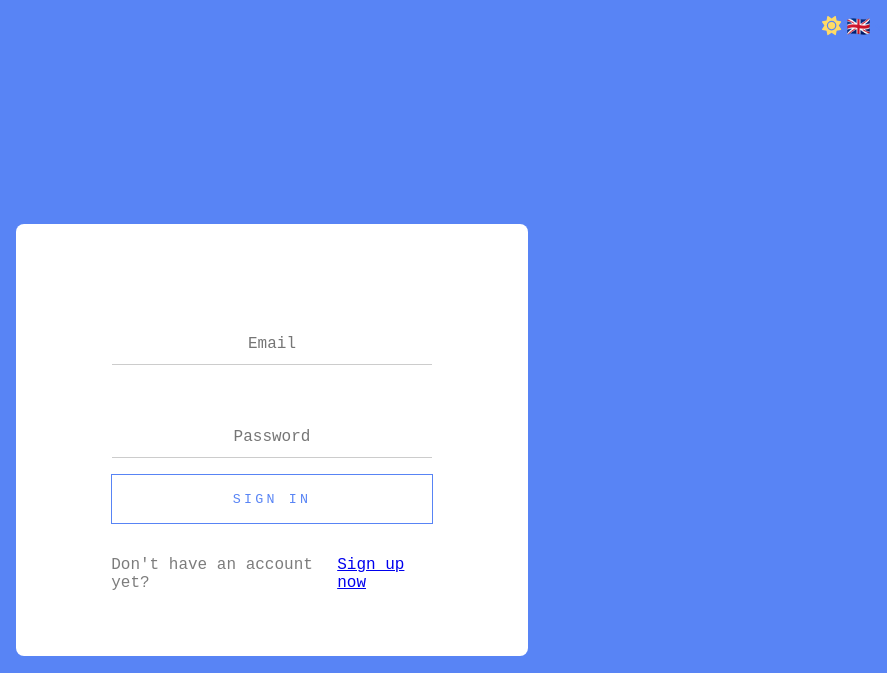
Test: SignInPage › renders the password validation error
Type "12" into the password field with placeholder "Password".
click(272, 438); type("12")  # box [112, 417, 432, 458]
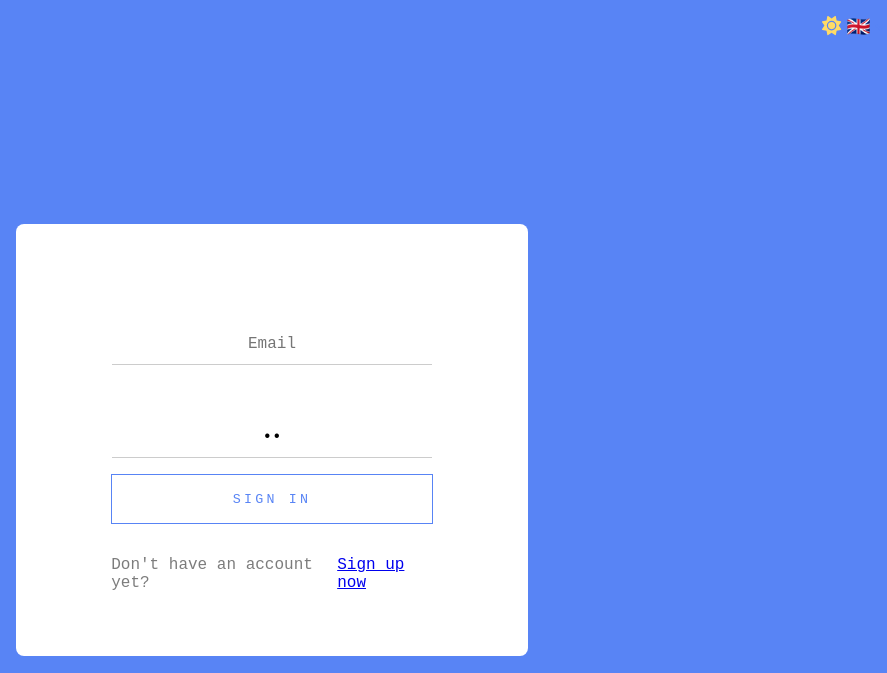
Leave the password field with placeholder "Password", box [112, 417, 432, 458]
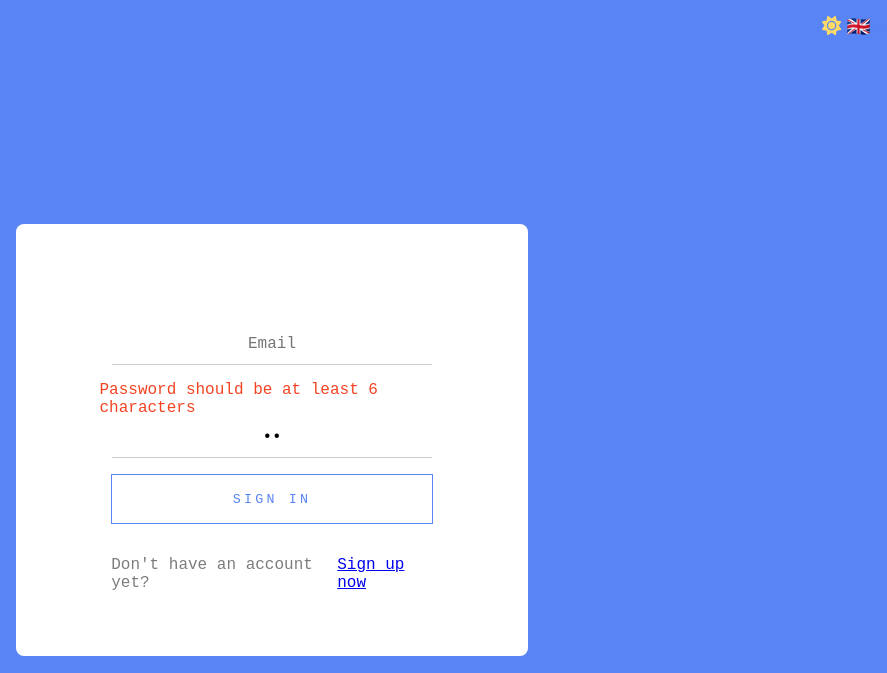
Now the text "Password should be at least 6 characters" is shown, box [100, 381, 378, 417]
